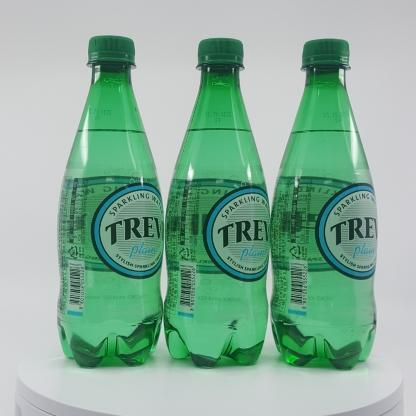---------PET-500ML: (164, 38, 271, 369), (270, 39, 377, 370), (57, 35, 163, 367)
